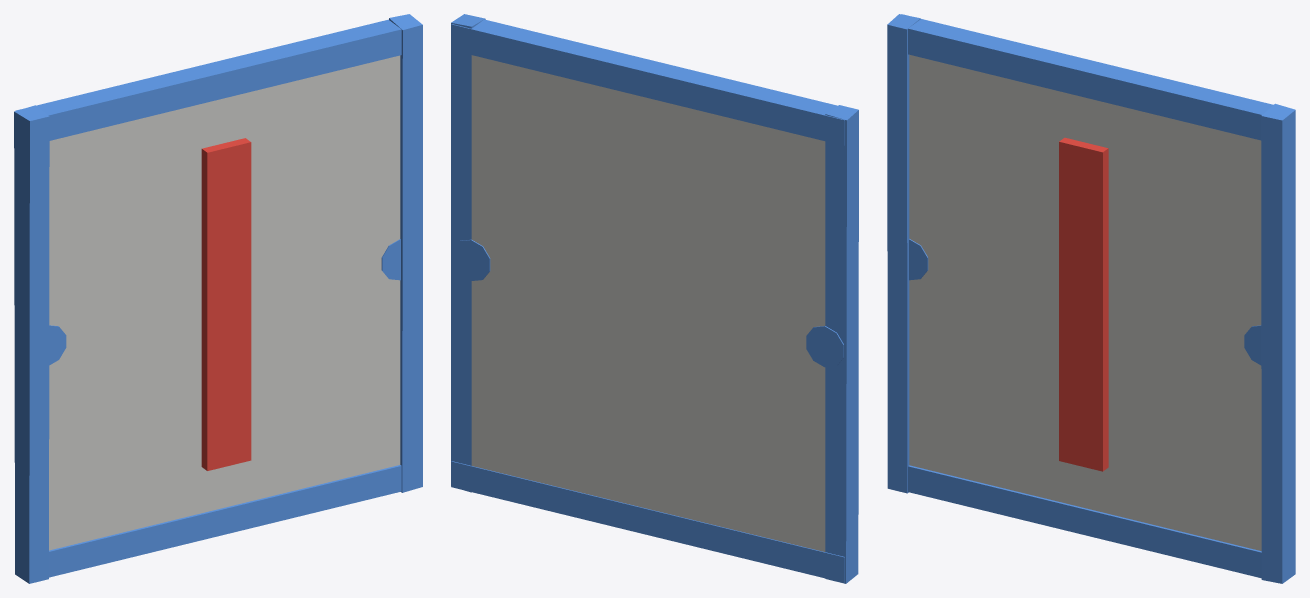
Rendered from Sign_Cartoon_1.fbx.
3 renders of one model, left to right at view 1: azimuth 30°, elevation 25°; view 2: azimuth 150°, elevation 25°; view 3: azimuth 330°, elevation 25°, orthographic.
Visible parts, largest first — view 1: Sign_Cartoon_1; view 2: Sign_Cartoon_1; view 3: Sign_Cartoon_1.
Boxes of the visible parts, x1,y1,x2,y2 form: Sign_Cartoon_1: [14, 14, 422, 583]; Sign_Cartoon_1: [451, 14, 858, 583]; Sign_Cartoon_1: [887, 14, 1295, 583].
Bounding box in the file's own units: 0.806 × 0.906 × 0.062.
